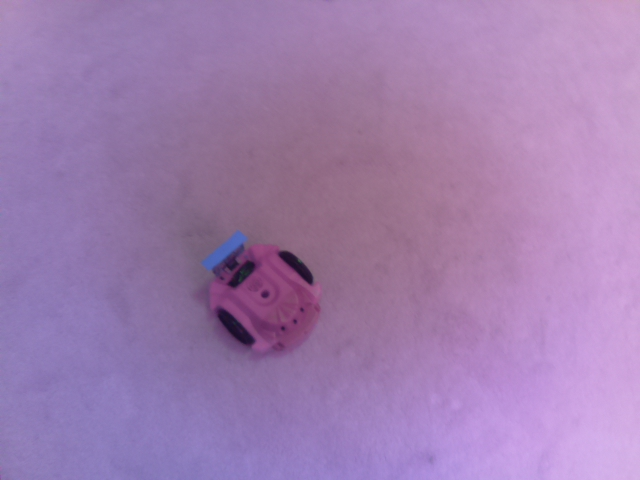board: (204, 228, 246, 277)
chassis: (202, 226, 325, 359)
